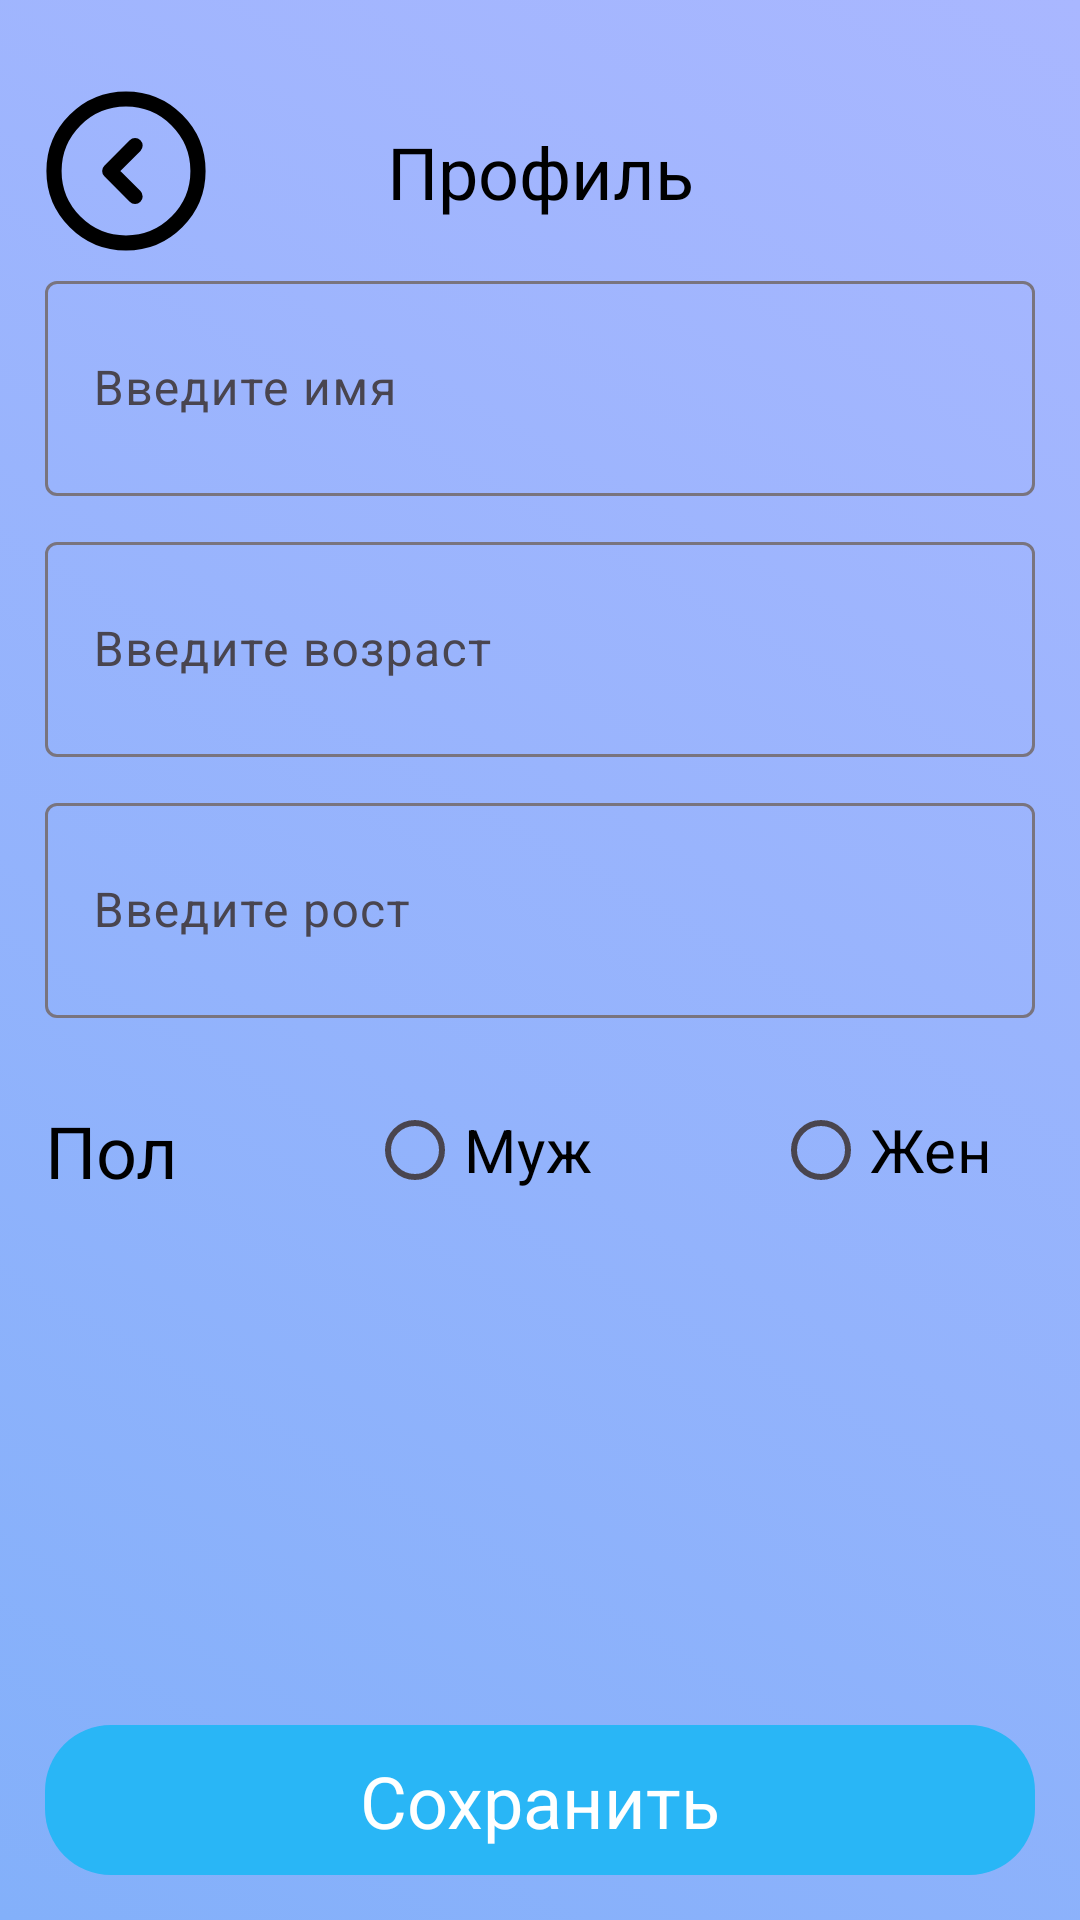

Named icons in this screenshot (1080px×1920px) and their bounding boxes, (x1, y1, x2, y2):
arrow left: (46, 91, 206, 251)
